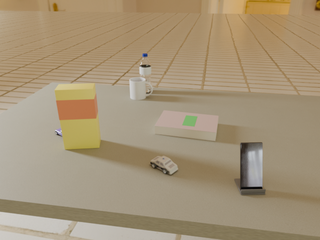book: (155, 111, 218, 141)
bottle: (140, 54, 151, 93)
box: (55, 83, 101, 149)
cup: (130, 77, 153, 100)
phone: (240, 142, 262, 189)
toy_car: (150, 156, 178, 174)
